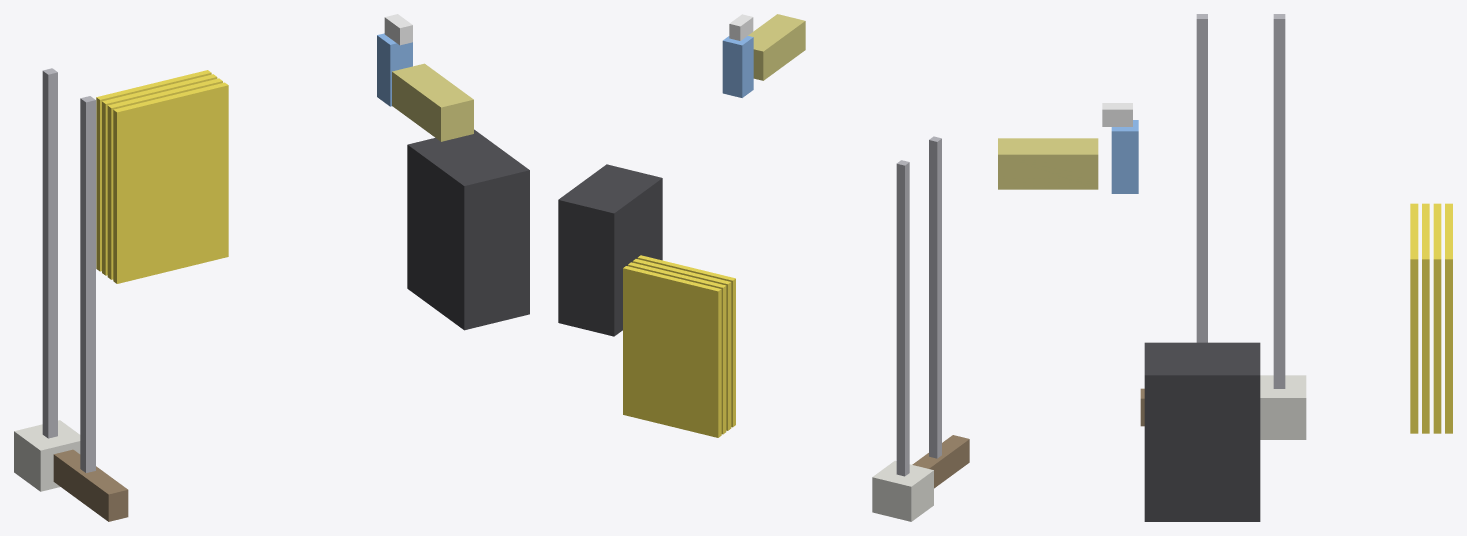
The model's file is janitorial_cart_tools.glb.
3 views of the same model, side by side, from view 1: azimuth 30°, elevation 25°; view 2: azimuth 150°, elevation 25°; view 3: azimuth 270°, elevation 25° (orthographic). The views are drawn at different scales.
Parts seen in each view (by area): view 1: Trash_Bag, Sign_1, Broom, Mop, Light_Replacer, Spray, Sign_2, Sign_4, Sign_3; view 2: Sign_4, Trash_Bag, Mop, Broom, Light_Replacer, Spray, Sign_2, Sign_3, Sign_1; view 3: Trash_Bag, Mop, Light_Replacer, Broom, Spray, Sign_1, Sign_3, Sign_2, Sign_4.
Boxes of the visible parts, left/top/right/bottom form: Trash_Bag: left=407, top=129, right=529, bottom=330; Sign_1: left=113, top=82, right=228, bottom=283; Broom: left=53, top=96, right=128, bottom=521; Mop: left=14, top=68, right=80, bottom=491; Light_Replacer: left=392, top=63, right=473, bottom=141; Spray: left=377, top=14, right=412, bottom=106; Sign_2: left=107, top=78, right=222, bottom=279; Sign_4: left=96, top=70, right=211, bottom=271; Sign_3: left=102, top=74, right=217, bottom=275; Sign_4: left=623, top=266, right=721, bottom=437; Trash_Bag: left=558, top=164, right=662, bottom=336; Mop: left=872, top=160, right=933, bottom=521; Broom: left=912, top=136, right=969, bottom=488; Light_Replacer: left=748, top=14, right=805, bottom=80; Spray: left=722, top=14, right=753, bottom=97; Sign_2: left=632, top=259, right=731, bottom=430; Sign_3: left=628, top=262, right=726, bottom=434; Sign_1: left=637, top=255, right=735, bottom=427; Trash_Bag: left=1144, top=342, right=1260, bottom=521; Mop: left=1260, top=14, right=1306, bottom=439; Light_Replacer: left=998, top=138, right=1098, bottom=189; Broom: left=1140, top=14, right=1207, bottom=426; Spray: left=1102, top=103, right=1138, bottom=193; Sign_1: left=1410, top=203, right=1418, bottom=433; Sign_3: left=1433, top=203, right=1441, bottom=433; Sign_2: left=1422, top=203, right=1429, bottom=433; Sign_4: left=1445, top=203, right=1452, bottom=433.
Size of the model in its own units: 1.33 by 1.3 by 1.18.
